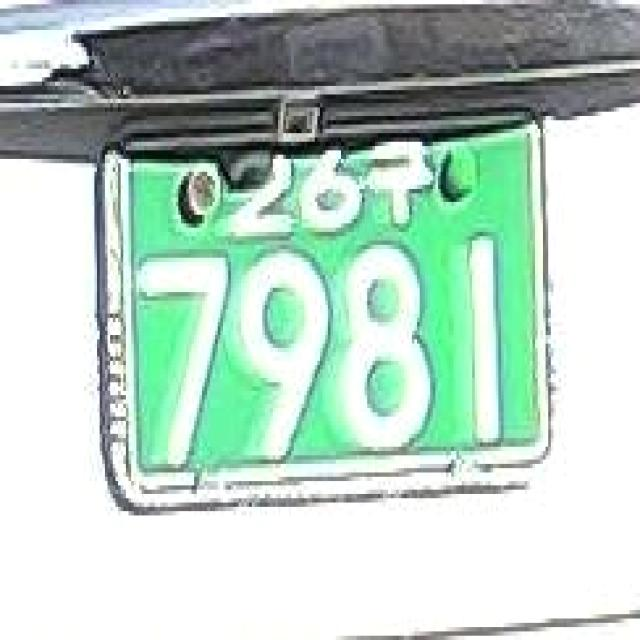illegal_plate: (81, 92, 574, 532)
